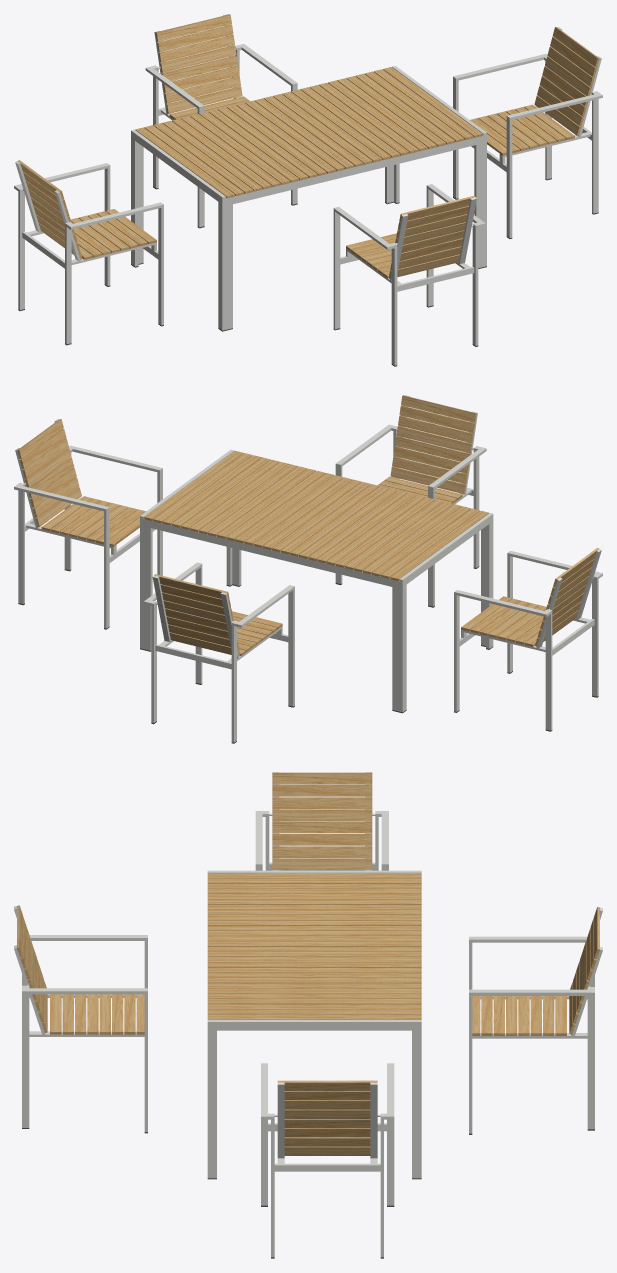
The model's file is rise-set1_nocolor.fbx.
3 views of the same model, one above another, from view 1: azimuth 30°, elevation 25°; view 2: azimuth 150°, elevation 25°; view 3: azimuth 270°, elevation 25° (orthographic). The views are drawn at different scales.
Visible parts, largest first — view 1: rise-set1; view 2: rise-set1; view 3: rise-set1.
Boxes of the visible parts, x1,y1,x2,y2 form: rise-set1: (14, 14, 602, 366); rise-set1: (14, 395, 602, 743); rise-set1: (14, 772, 602, 1258).
Bounding box in the file's own units: 311 × 82.99 × 248.
Materials: 4 (2 with a texture image).
